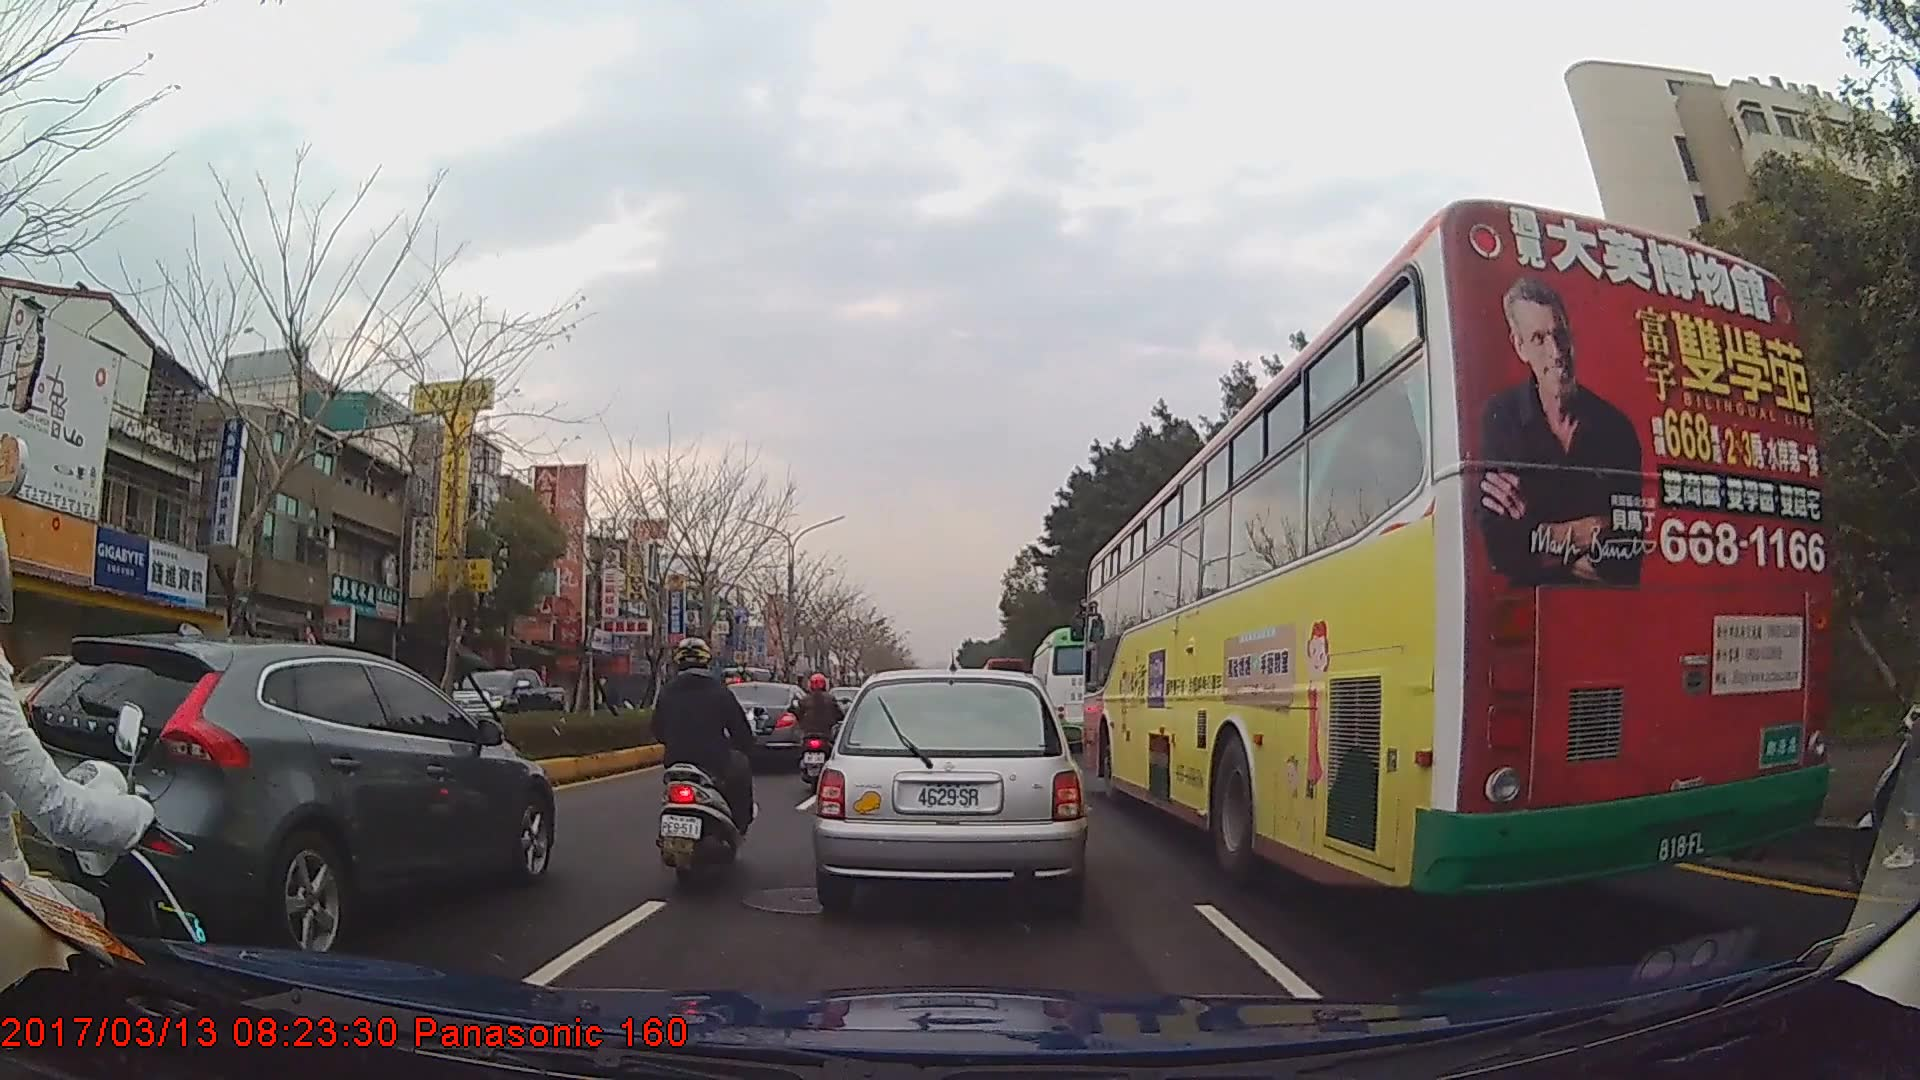rider: (646, 635, 756, 886), (1848, 589, 1920, 889), (790, 673, 846, 791)
vehicle: (1081, 194, 1833, 901), (10, 628, 556, 936), (814, 668, 1086, 912), (1027, 627, 1116, 749), (707, 681, 816, 771), (444, 666, 565, 735)
